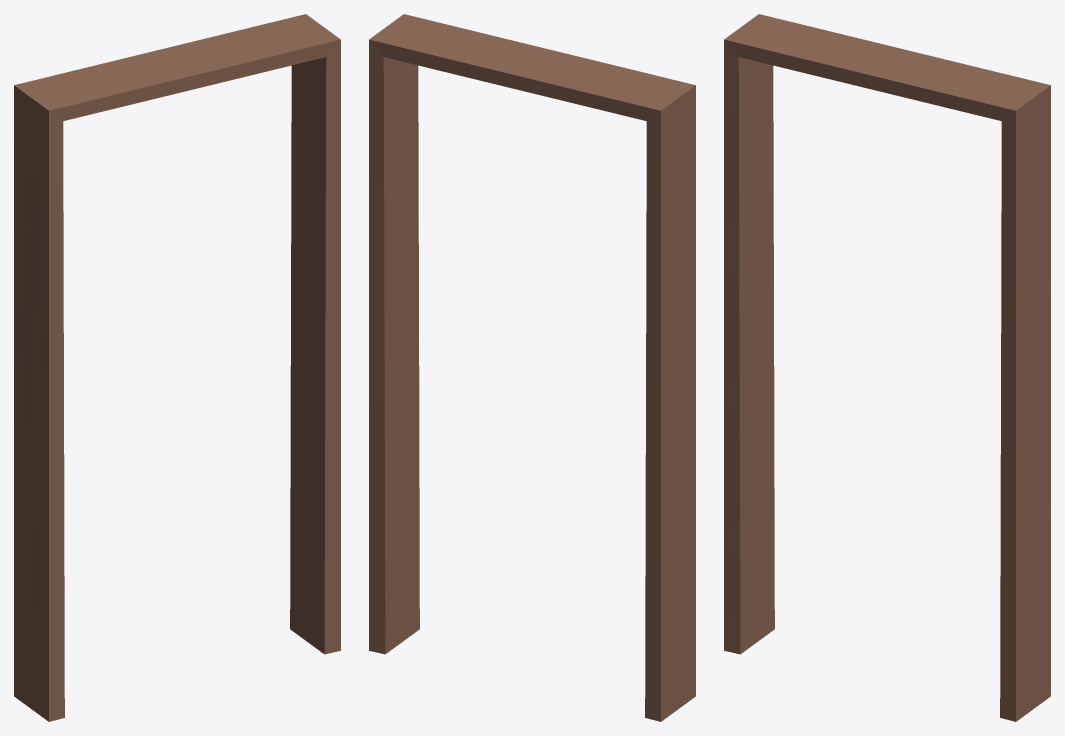
Rendered from Door_Frame_02.fbx.
The picture shows the model from 3 angles, left to right: view 1: azimuth 30°, elevation 25°; view 2: azimuth 150°, elevation 25°; view 3: azimuth 330°, elevation 25°; orthographic projection.
Visible parts, largest first — view 1: Door_Frame_02; view 2: Door_Frame_02; view 3: Door_Frame_02.
Part boxes in pixels (bbox=[...]): Door_Frame_02: bbox=[14, 14, 340, 721]; Door_Frame_02: bbox=[369, 14, 695, 721]; Door_Frame_02: bbox=[724, 14, 1050, 721].
Bounding box in the file's own units: 1 × 2 × 0.2074.
